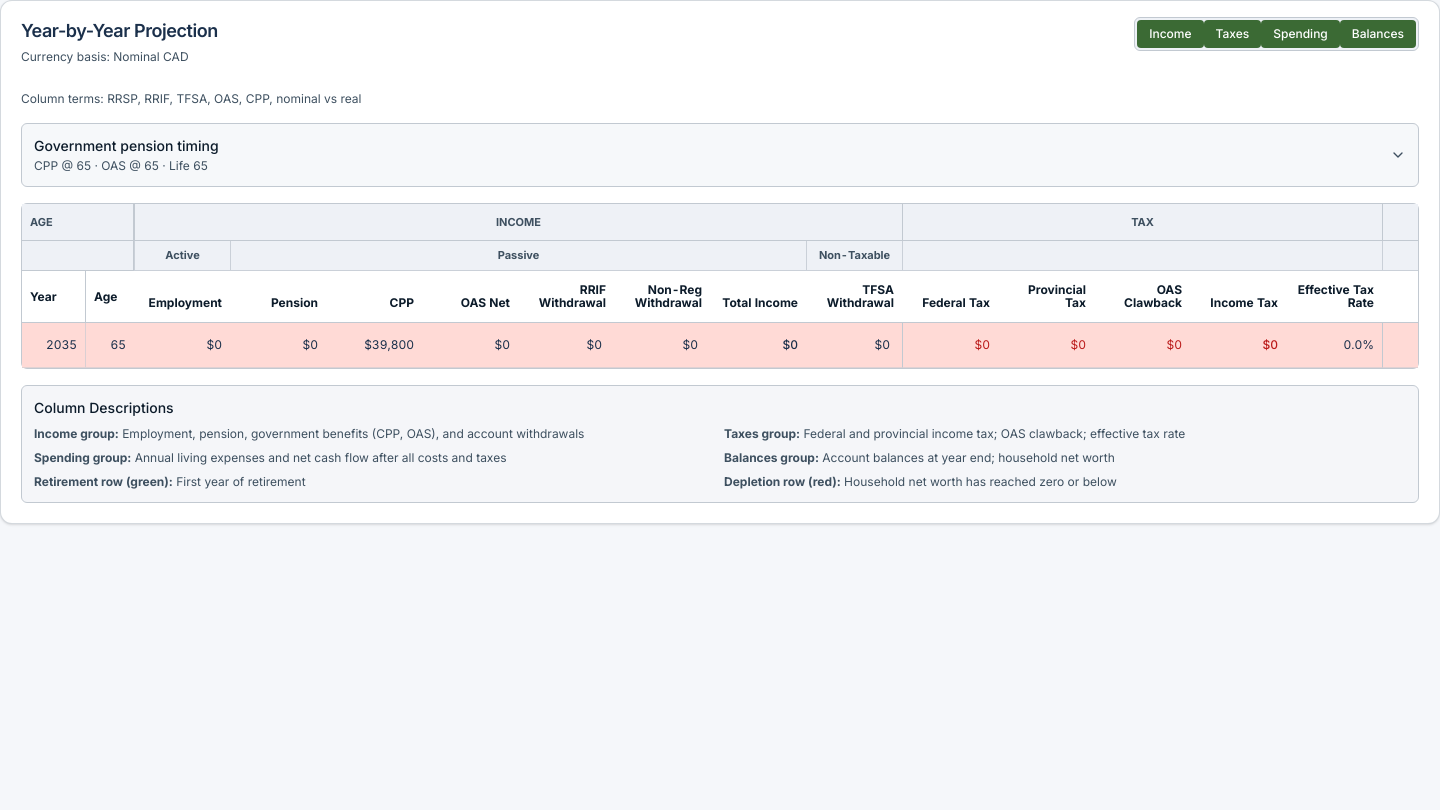
Test: YearByYearTab government pension timing support › prefers result_data.assumptions.expectedCPPAt65 over inferring from nominal rows
Click the button "Government pension timing CPP @ 65 · OAS @ 65 · Life 65" at [126, 146], box [22,124,1418,186]
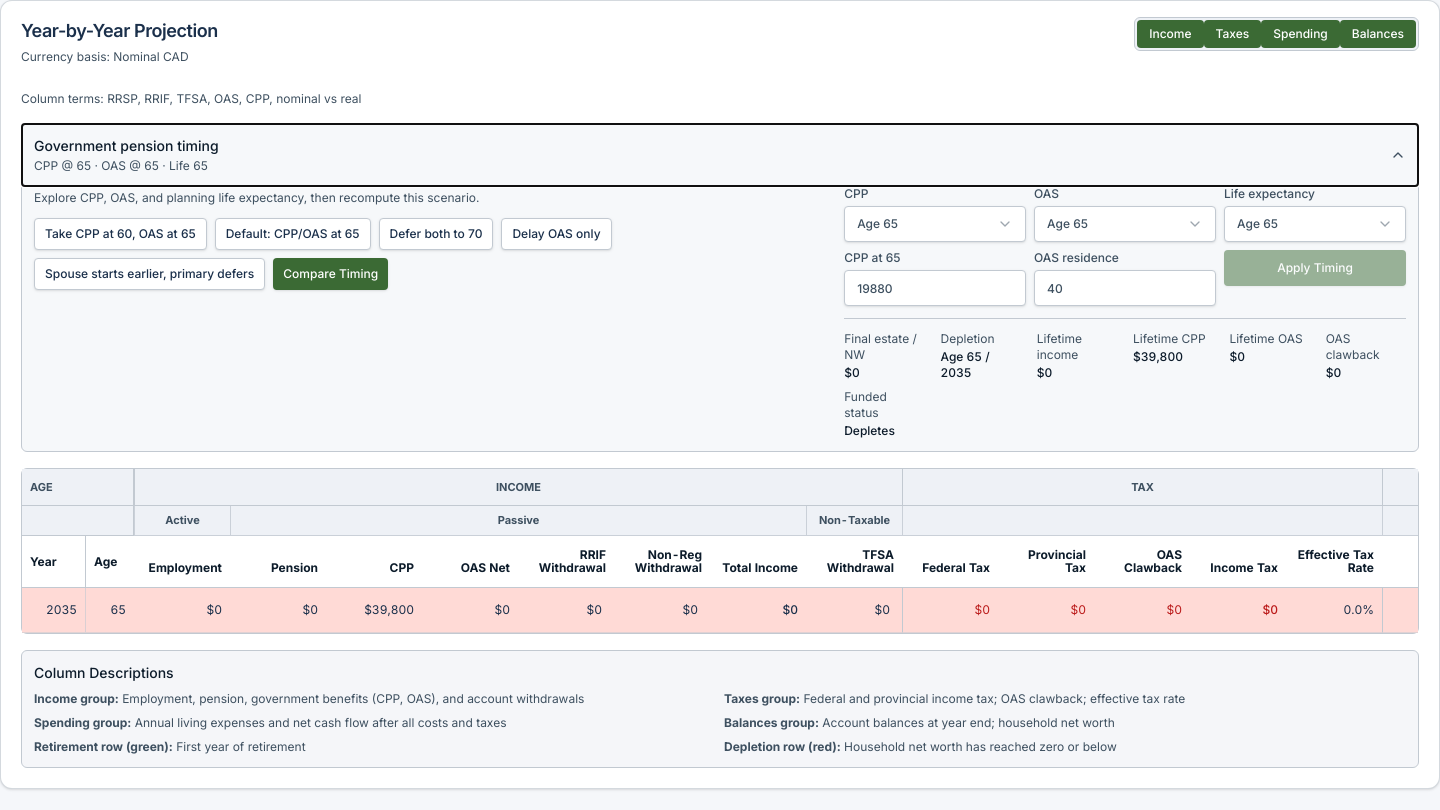
Now the number field showing "19880" is shown, box [844,270,1026,306]
